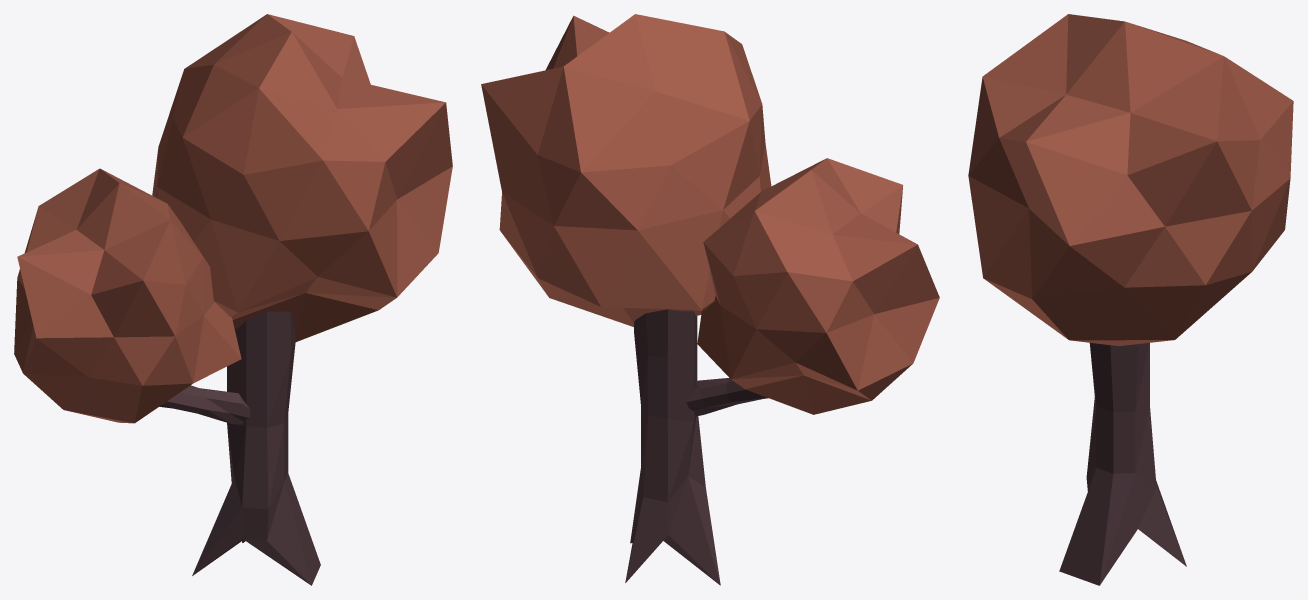
File: tree.dae
3 renders of one model, left to right at view 1: azimuth 30°, elevation 25°; view 2: azimuth 150°, elevation 25°; view 3: azimuth 270°, elevation 25°, orthographic. The views are drawn at different scales.
Parts seen in each view (by area): view 1: Icosphere_001, Cylinder_001; view 2: Icosphere_001, Cylinder_001; view 3: Icosphere_001, Cylinder_001.
Boxes of the visible parts, x1=… form: Icosphere_001: x1=14, y1=14, x2=452, y2=423; Cylinder_001: x1=159, y1=311, x2=320, y2=585; Icosphere_001: x1=481, y1=14, x2=939, y2=414; Cylinder_001: x1=625, y1=309, x2=768, y2=585; Icosphere_001: x1=968, y1=14, x2=1293, y2=346; Cylinder_001: x1=1059, y1=343, x2=1186, y2=585.
Size of the model in its own units: 4.48 by 2.92 by 5.5.
